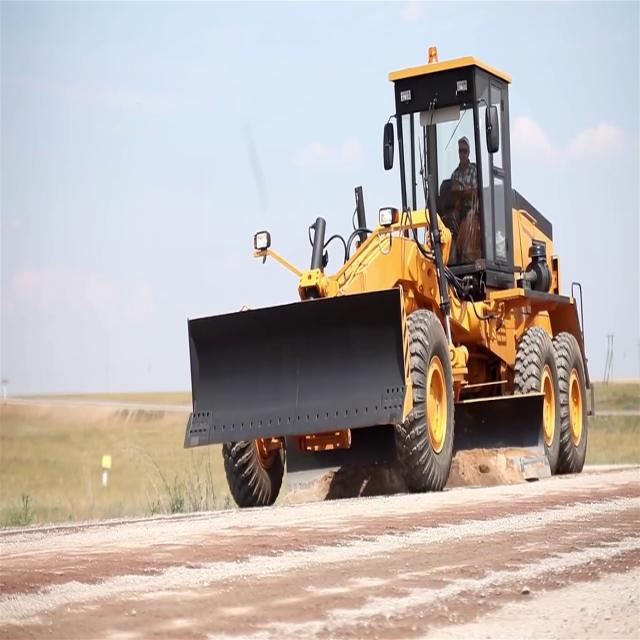buldozerpayloadergrader: (184, 54, 588, 508)
